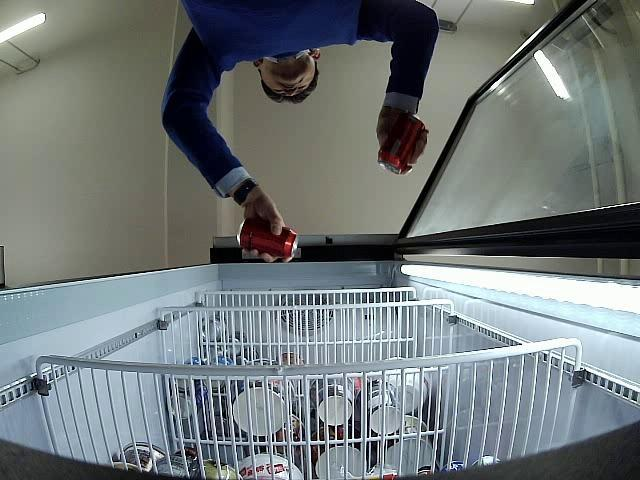11_cocaColaZero: (378, 112, 424, 175), (236, 218, 298, 258)
